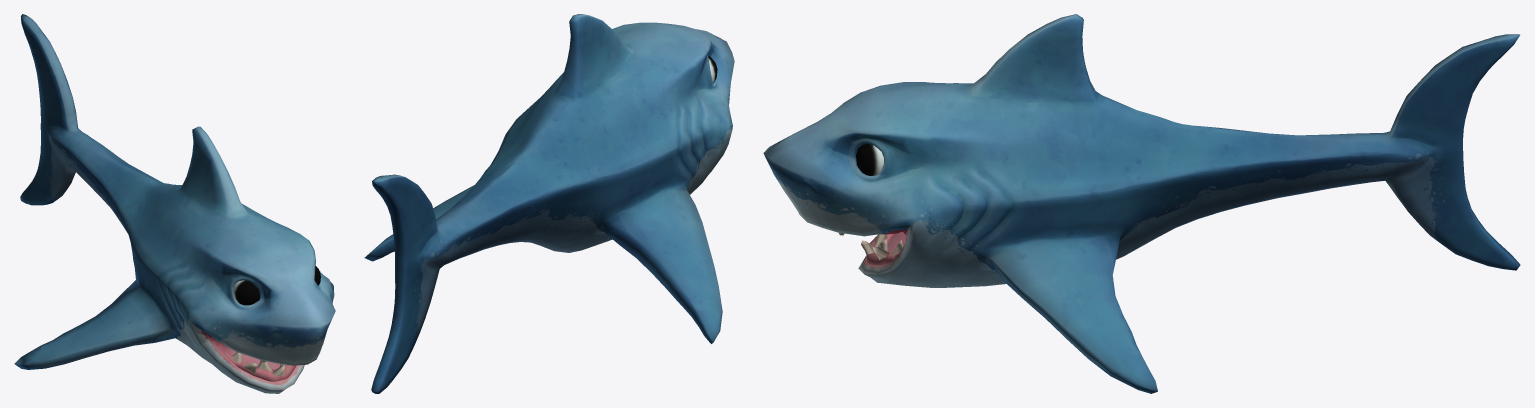
The picture shows the model from 3 angles, left to right: view 1: azimuth 30°, elevation 25°; view 2: azimuth 150°, elevation 25°; view 3: azimuth 270°, elevation 25°; orthographic projection. The views are drawn at different scales.
Visible parts, largest first — view 1: Shark_Low001; view 2: Shark_Low001; view 3: Shark_Low001.
Part boxes in pixels (x1,y1,x2,y2): Shark_Low001: (14, 14, 335, 393); Shark_Low001: (364, 14, 734, 393); Shark_Low001: (763, 14, 1520, 393).
Bounding box in the file's own units: 0.0754 × 0.0542 × 0.129.
1 material, 1 textured.
